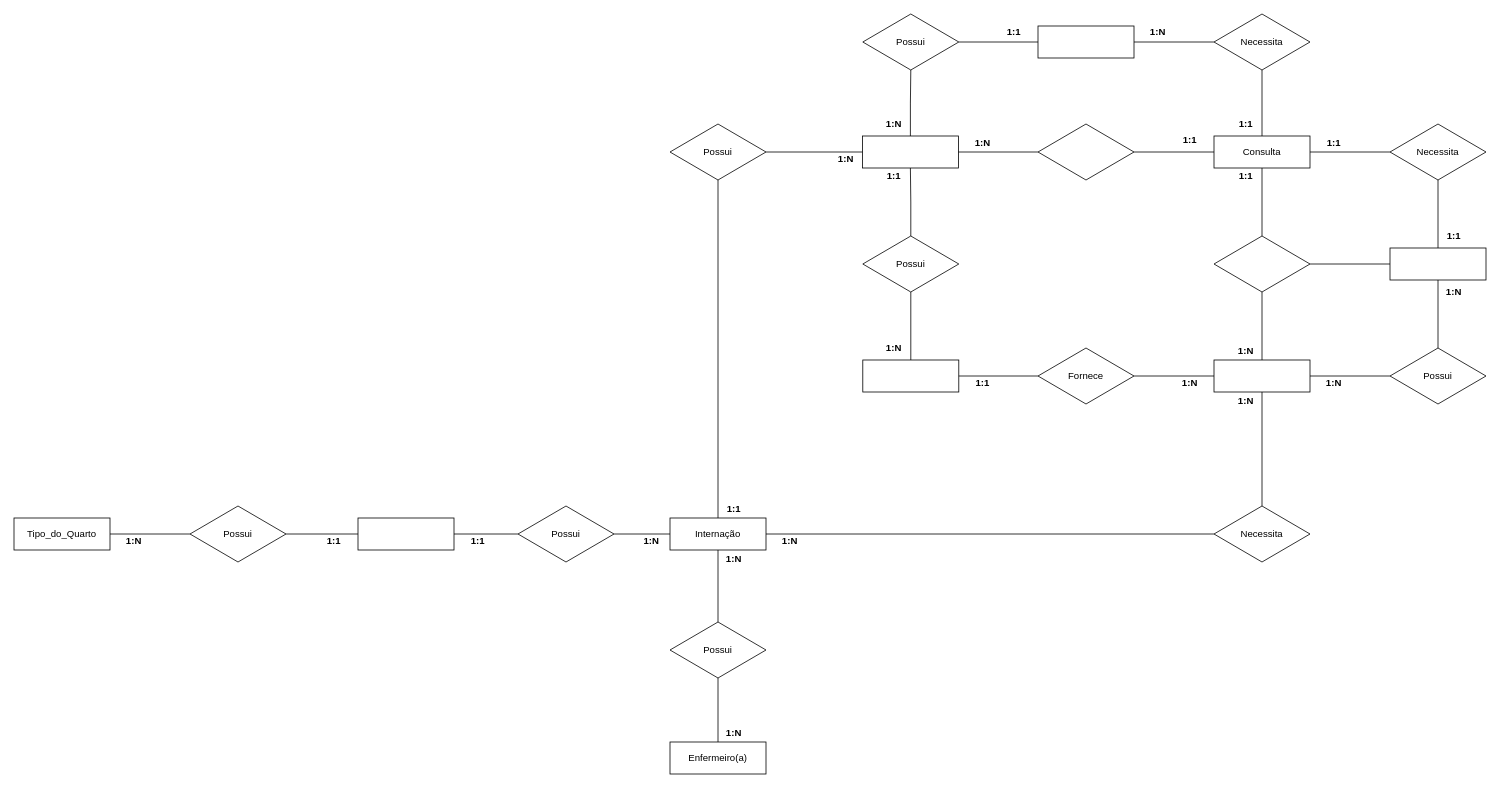
Image size: 1500x788. Some labels were removed from this diagram. The shapes that lost their labels are listed below. From the top down, each one's centre as x and y in pixels, then its label:
At pixel 1085 41: "Convênio".
At pixel 910 151: "Paciente".
At pixel 1085 151: "Procura".
At pixel 1261 263: "Realiza".
At pixel 1437 263: "Especialização".
At pixel 910 375: "Receita".
At pixel 1261 375: "Médico".
At pixel 405 533: "Quarto".
